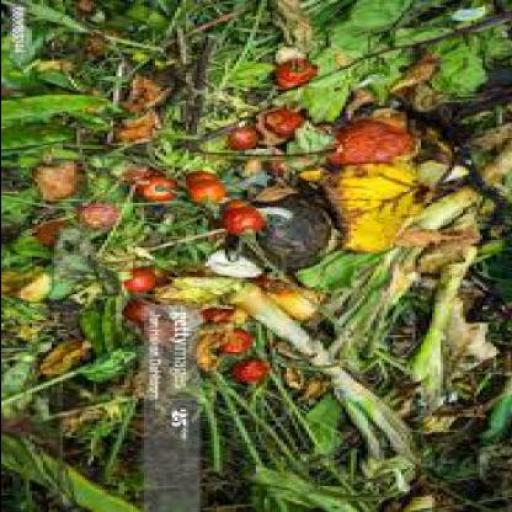biodegradable: (2, 0, 511, 512), (226, 279, 420, 488), (408, 214, 484, 378), (3, 434, 148, 510), (319, 160, 433, 255), (241, 180, 344, 266), (433, 4, 511, 94), (436, 63, 510, 135), (82, 294, 140, 378), (190, 302, 254, 366), (331, 119, 419, 164), (445, 296, 495, 375), (478, 372, 510, 491), (263, 268, 333, 320), (417, 182, 484, 232), (39, 329, 101, 380), (416, 328, 448, 415), (157, 274, 243, 301), (112, 100, 165, 142), (126, 67, 177, 110), (36, 160, 90, 199), (118, 4, 168, 43), (462, 115, 510, 155), (414, 158, 476, 184), (20, 264, 62, 302), (207, 246, 263, 273), (266, 104, 310, 136), (277, 56, 321, 88), (78, 198, 126, 227), (188, 168, 230, 201), (120, 294, 177, 316), (126, 264, 171, 290), (137, 175, 184, 199), (65, 0, 109, 25), (232, 356, 274, 382), (409, 80, 448, 108), (81, 30, 123, 56), (143, 317, 182, 344), (41, 214, 76, 244), (226, 206, 264, 232), (223, 324, 258, 352), (229, 123, 263, 149), (486, 142, 511, 177), (125, 160, 165, 178), (209, 305, 244, 320)
